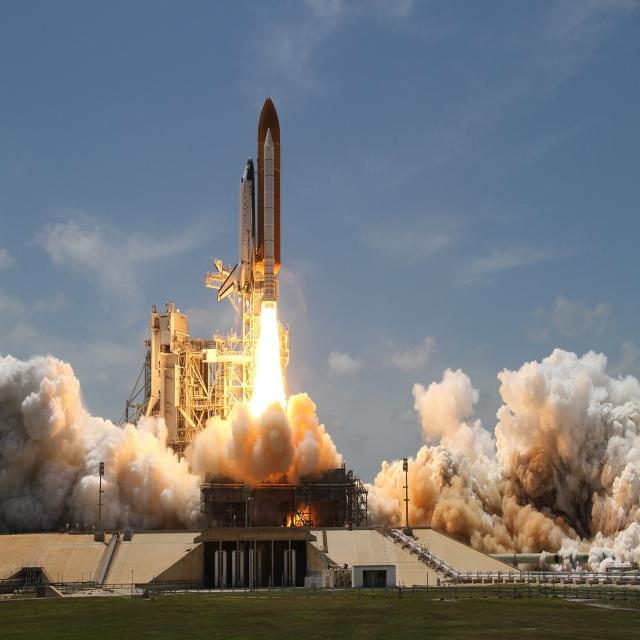large_debris: (27, 208, 198, 300), (510, 255, 632, 357), (326, 339, 366, 401), (383, 335, 446, 372)
medium_debris: (254, 291, 282, 427)
rocket: (216, 159, 259, 316)
